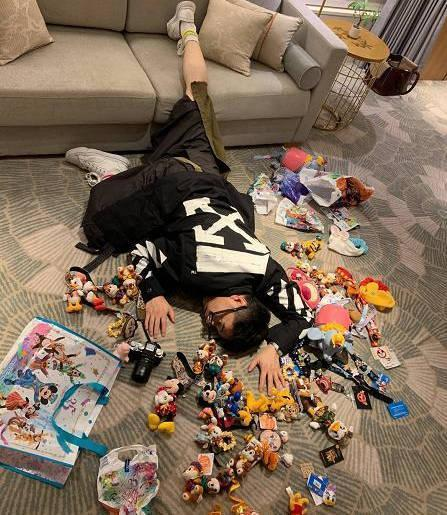Fall-Detected: (53, 0, 298, 407)
